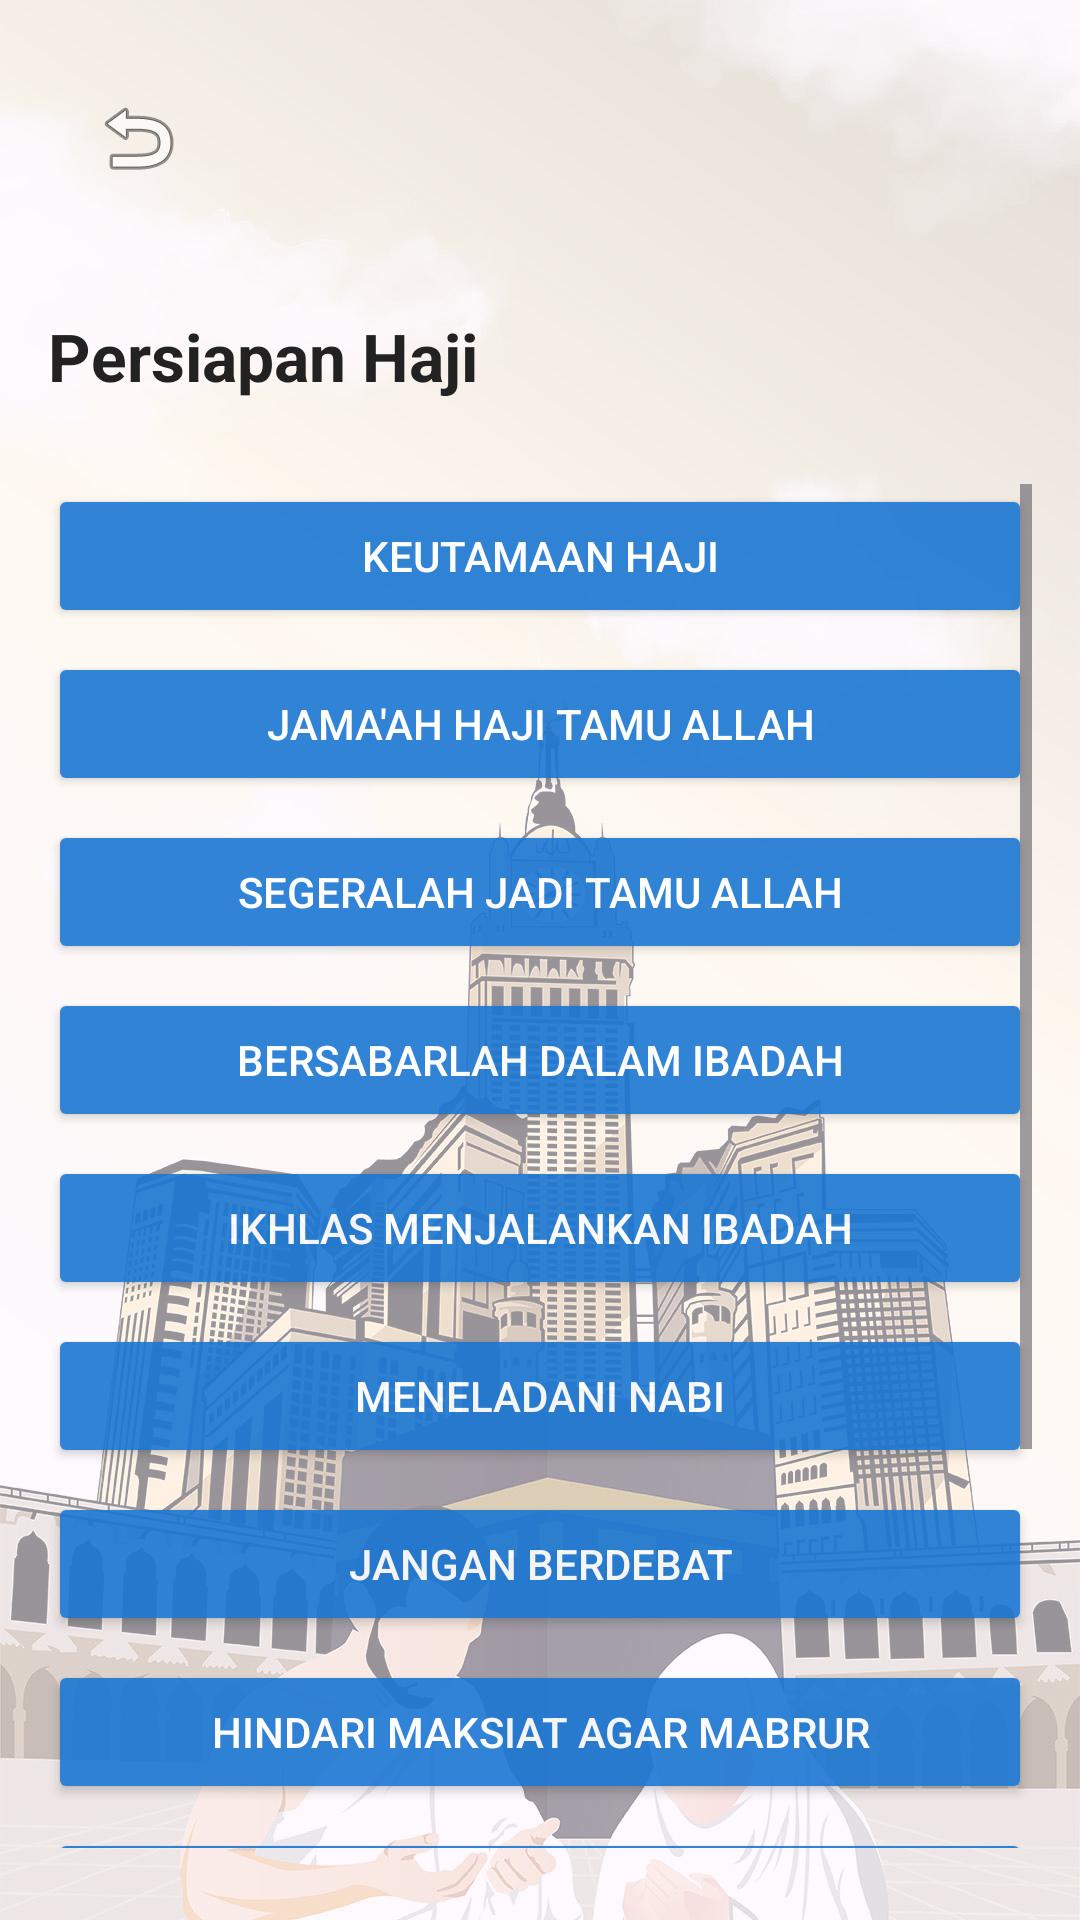

Screen size 1080×1920. Icon name, then its box in pixels as region(x1, y1, x2, y2):
Kembali: region(105, 107, 174, 170)
